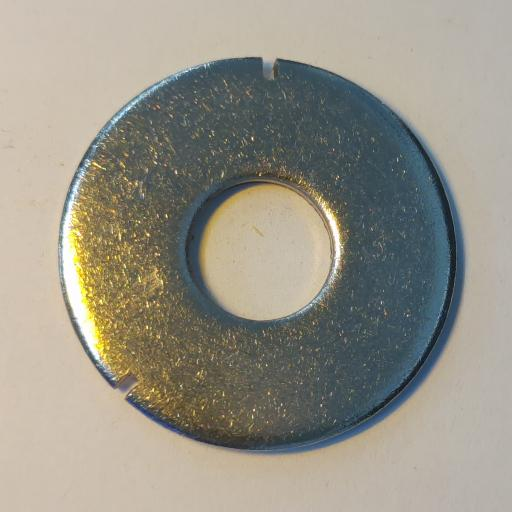burr: (114, 370, 143, 398), (259, 55, 281, 82)
